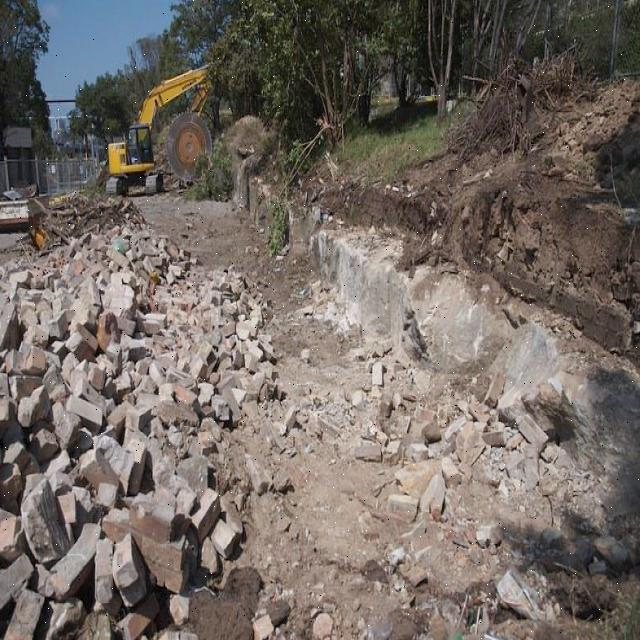Excavator: (105, 60, 218, 198)
